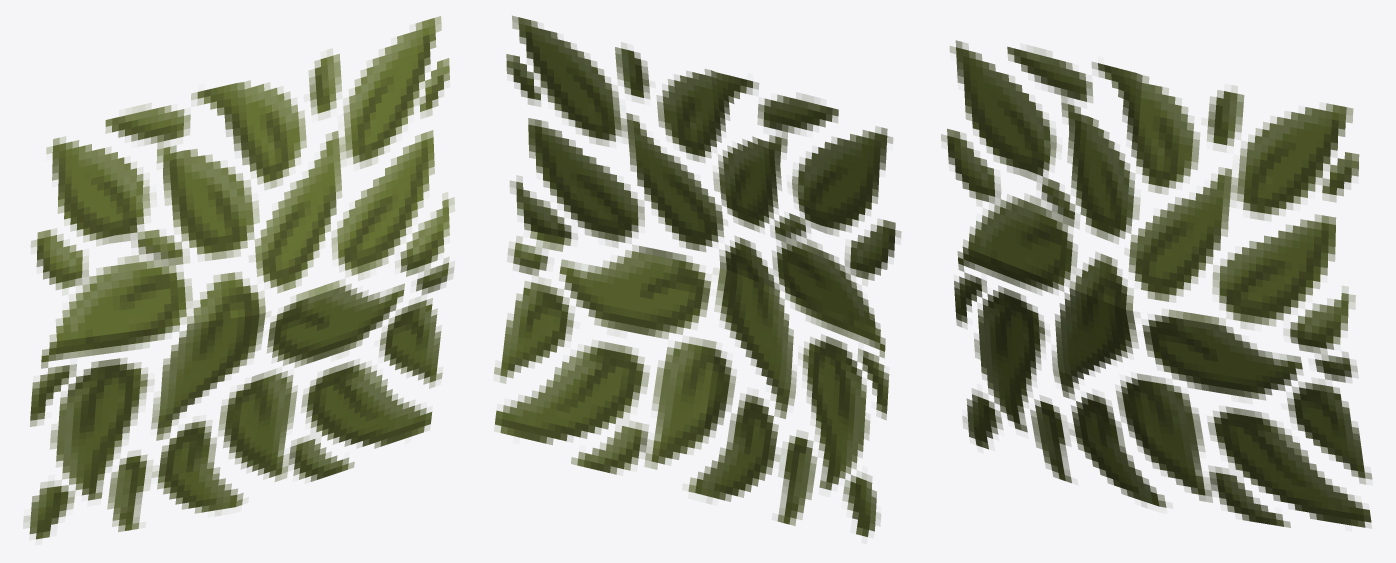
Rendered from vine_single_alt.glb.
The picture shows the model from 3 angles, left to right: view 1: azimuth 30°, elevation 25°; view 2: azimuth 150°, elevation 25°; view 3: azimuth 330°, elevation 25°; orthographic projection. The views are drawn at different scales.
Visible parts, largest first — view 1: vine_single_alt; view 2: vine_single_alt; view 3: vine_single_alt.
Boxes of the visible parts, x1,y1,x2,y2 form: vine_single_alt: (23, 16, 454, 539); vine_single_alt: (494, 16, 901, 537); vine_single_alt: (941, 40, 1371, 527).
Bounding box in the file's own units: 0.502 × 0.5175 × 0.0822.
1 material, 1 textured.
